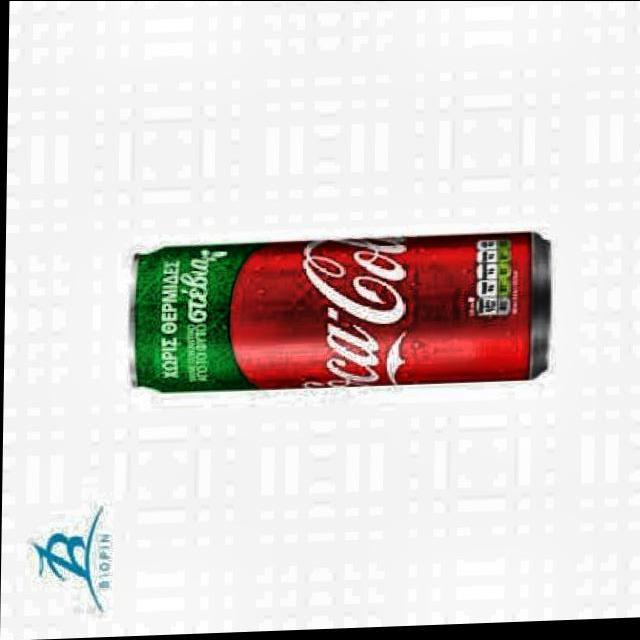Aluminum Can: (116, 223, 556, 398)
